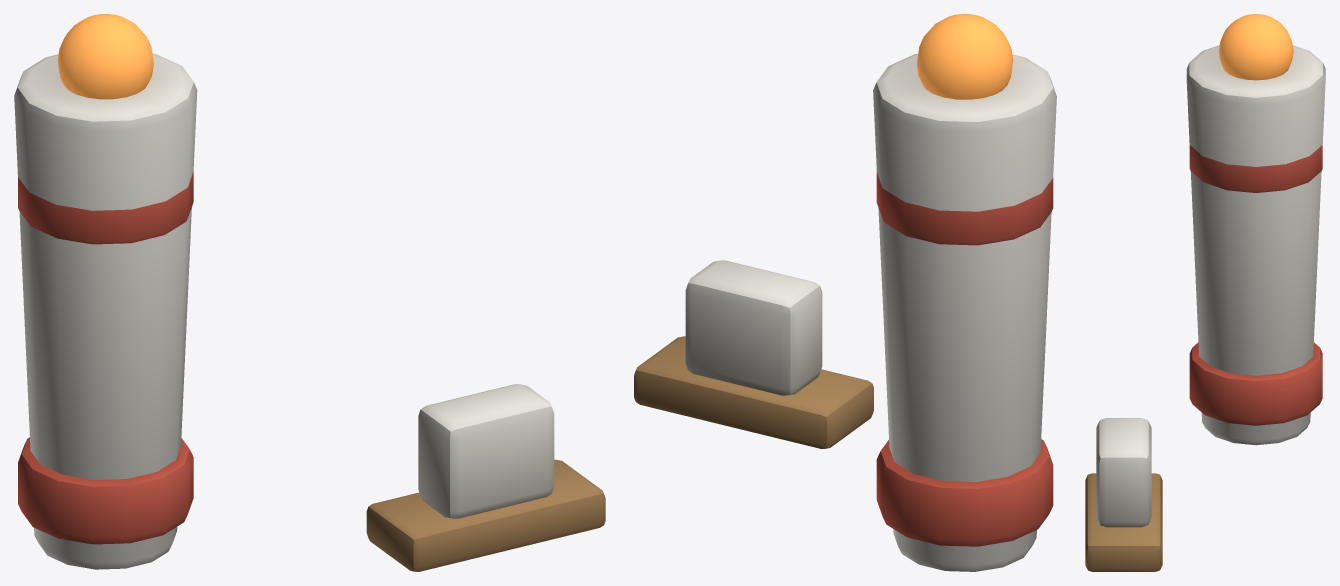
3 renders of one model, left to right at view 1: azimuth 30°, elevation 25°; view 2: azimuth 150°, elevation 25°; view 3: azimuth 270°, elevation 25°, orthographic. The views are drawn at different scales.
Visible parts, largest first — view 1: landmark_3e7dbabf; view 2: landmark_3e7dbabf; view 3: landmark_3e7dbabf.
Part boxes in pixels (x1,y1,x2,y2): landmark_3e7dbabf: (14,14,605,571); landmark_3e7dbabf: (634,14,1056,571); landmark_3e7dbabf: (1085,14,1325,571).
Size of the model in its own units: 3.85 by 4.09 by 2.18.
